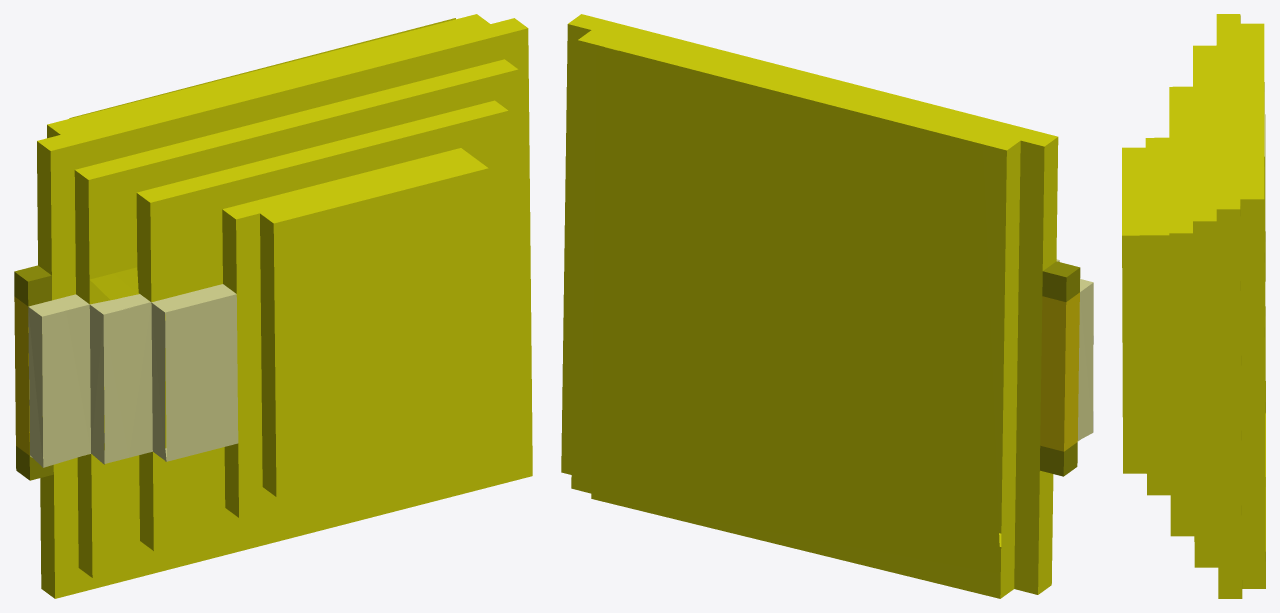
The model's file is tower.gltf.
3 views of the same model, side by side, from view 1: azimuth 30°, elevation 25°; view 2: azimuth 150°, elevation 25°; view 3: azimuth 270°, elevation 25° (orthographic). The views are drawn at different scales.
Visible parts, largest first — view 1: Geode.001; view 2: Geode.001; view 3: Geode.001.
Boxes of the visible parts, x1,y1,x2,y2 form: Geode.001: (14, 14, 532, 598); Geode.001: (561, 14, 1093, 598); Geode.001: (1122, 14, 1265, 598).
Size of the model in its own units: 21.16 by 18.26 by 6.06.
